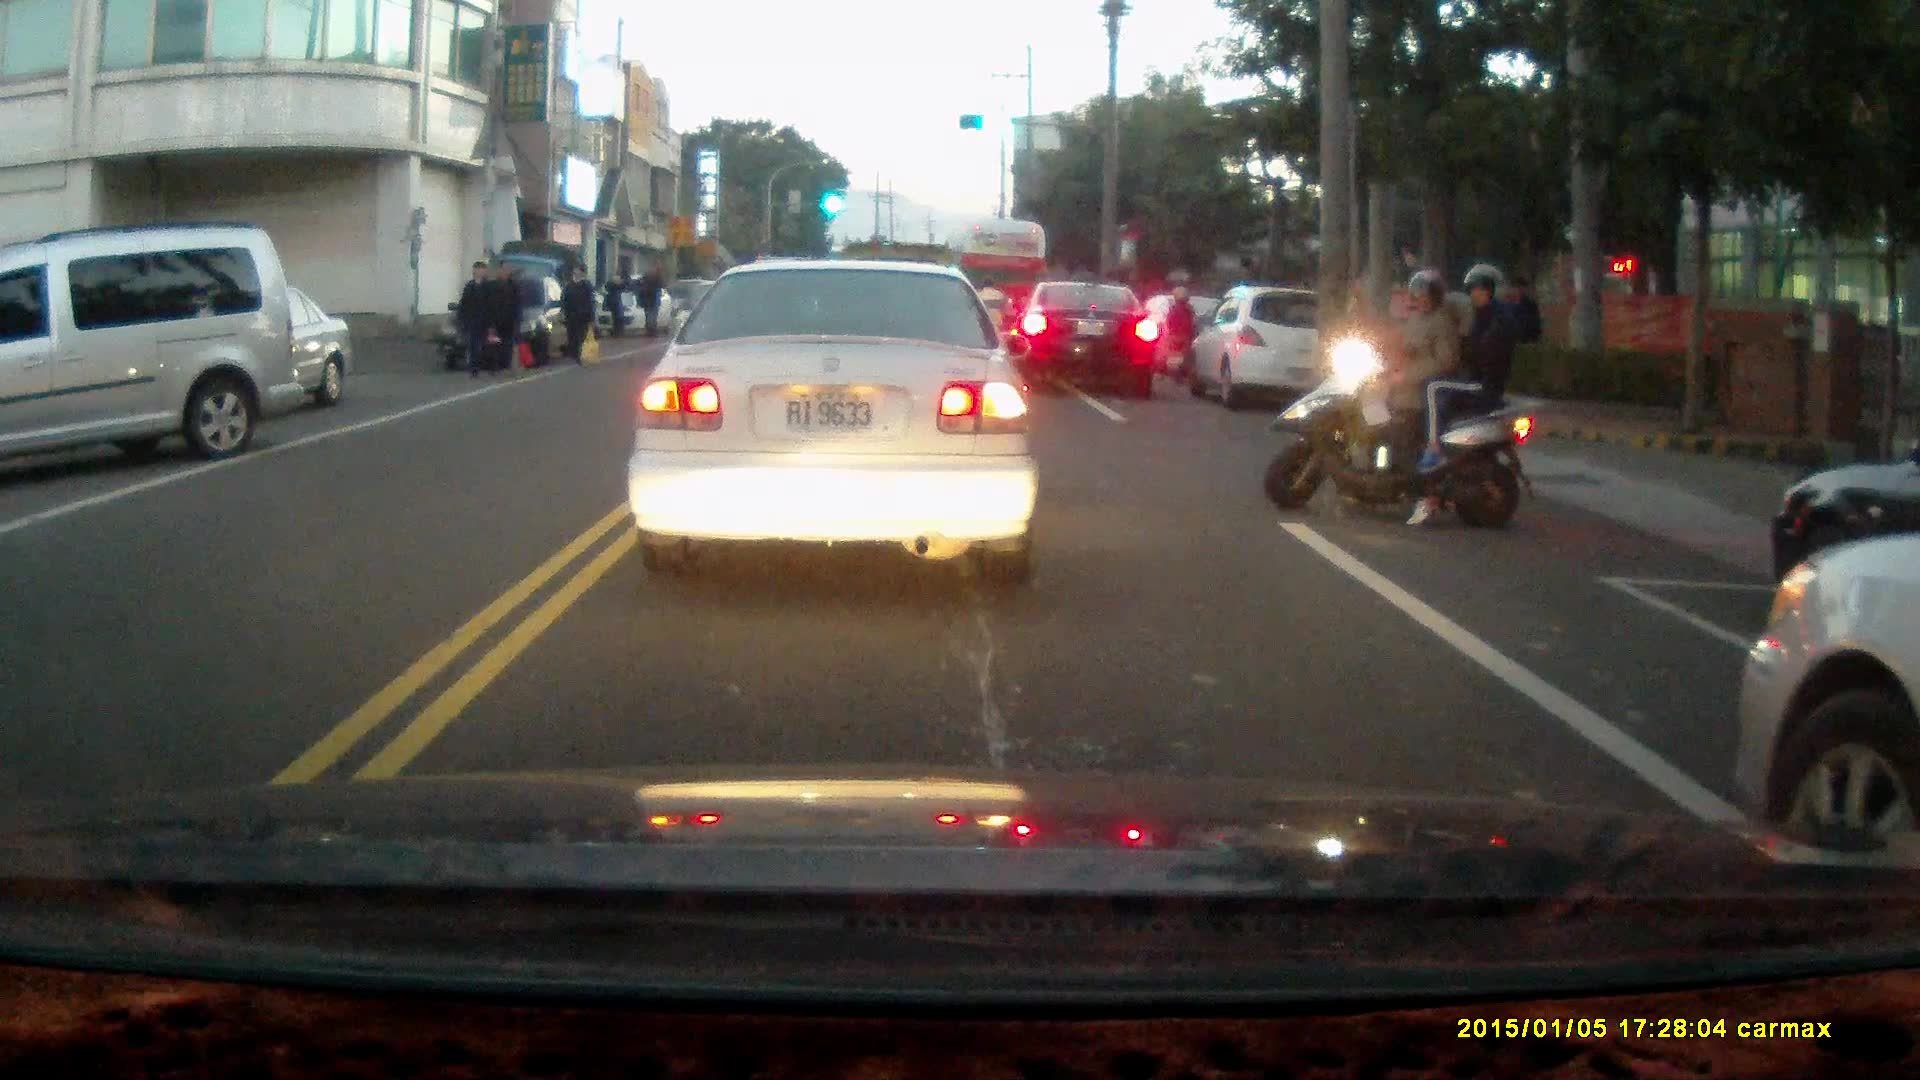pedestrian: (454, 261, 499, 384), (1497, 274, 1543, 378), (554, 263, 595, 371), (484, 264, 520, 380), (602, 266, 632, 350), (637, 268, 664, 339)
rider: (1269, 260, 1553, 534), (1160, 282, 1200, 389)
vehicle: (625, 259, 1039, 582), (1, 232, 292, 478), (1728, 544, 1920, 845), (1190, 286, 1353, 403), (1009, 282, 1160, 400), (441, 276, 581, 377)
